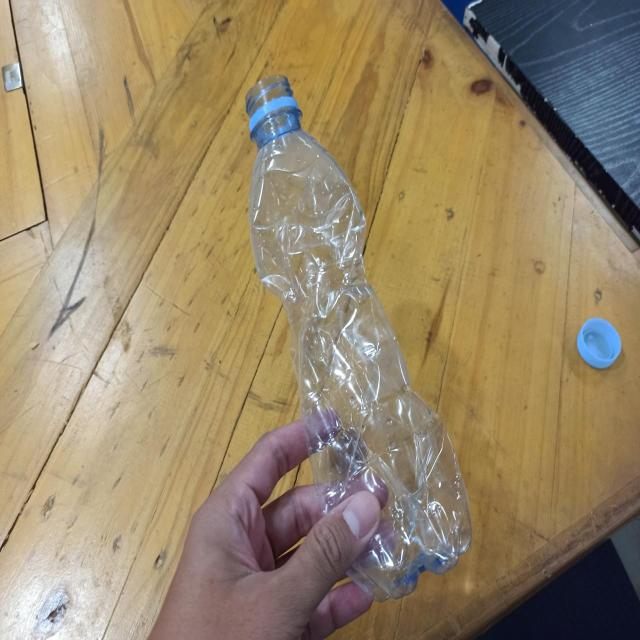BotolPlastik: (243, 73, 473, 602)
